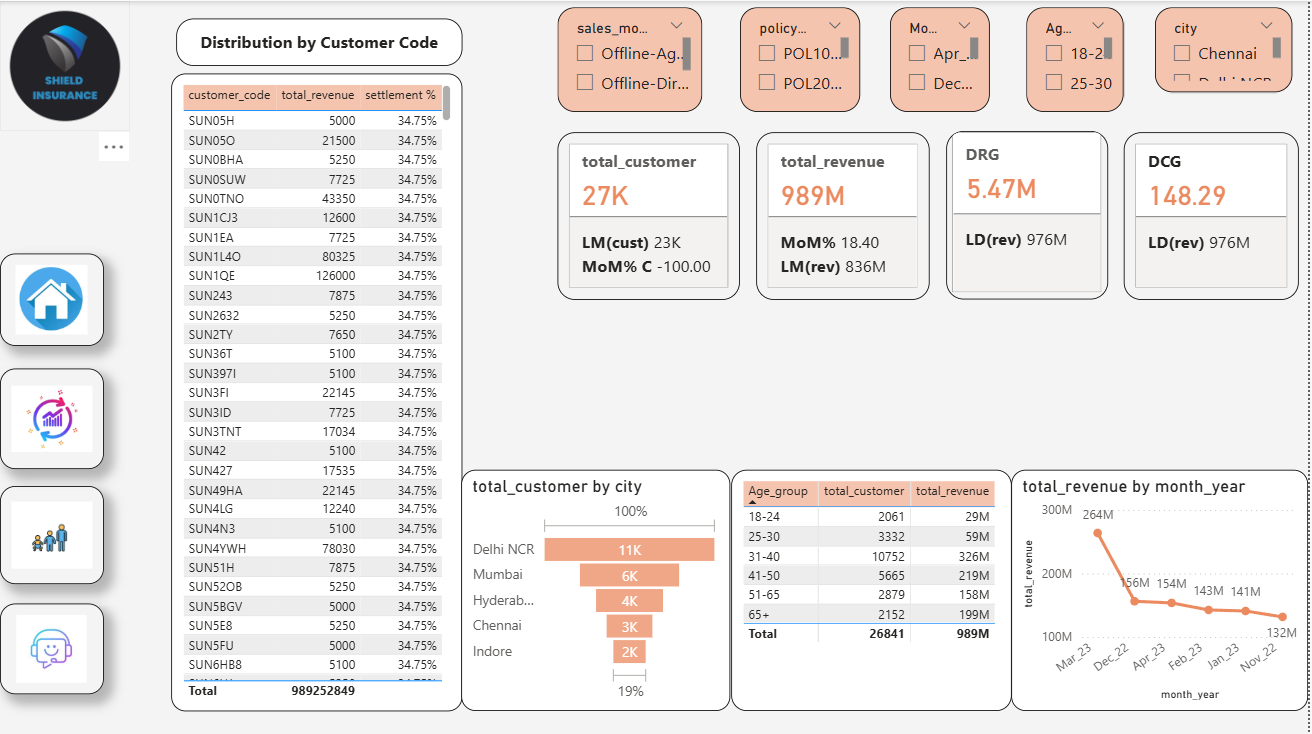

The page's visual inventory and layout, read from the dashboard file:
{"tool":"powerbi","page":{"name":"General_analysis","canvas":[1280,720],"ordinal":1},"visuals":[{"type":"cardVisual","fields":{"Data":["dim_customer.total_customer"]},"box":[545.4,128.4,178.5,163.9],"z":0},{"type":"cardVisual","fields":{"Data":["dim_customer.total_revenue"]},"box":[739.8,128.4,170,163.9],"z":1000},{"type":"cardVisual","fields":{"Data":["dim_customer.DRG"]},"box":[925.2,127.4,158.3,164.5],"z":2000},{"type":"cardVisual","fields":{"Data":["dim_customer.DCG"]},"box":[1099.3,128.4,171.2,163.9],"z":3000},{"type":"tableEx","fields":{"Values":["dim_policies.Age_group","dim_customer.total_customer","dim_customer.total_revenue"]},"box":[715,458.9,274.6,236.3],"z":4000},{"type":"tableEx","fields":{"Values":["dim_customer.customer_code","dim_customer.total_revenue","fact_settlements.settlement %"]},"box":[167.5,71.2,285,623.8],"z":5000},{"type":"slicer","fields":{"Values":["dim_customer.city"]},"box":[1130,6.2,134,83],"z":6000},{"type":"slicer","fields":{"Values":["dim_policies.Age_group"]},"box":[1003.8,6.2,95,102.5],"z":7000},{"type":"slicer","fields":{"Values":["dim_policies.mmm_yy"]},"box":[871.2,6.2,97.5,102.5],"z":8000},{"type":"slicer","fields":{"Values":["dim_policies.policy_id"]},"box":[723.8,6.2,117.5,102.5],"z":9000},{"type":"slicer","fields":{"Values":["dim_policies.sales_mode"]},"box":[545,6.2,141.2,102.5],"z":10000},{"type":"lineChart","fields":{"Y":["dim_customer.total_revenue"],"Category":["dim_date.mmm_yy"]},"box":[989.6,458.9,290.7,236.3],"z":11000},{"type":"textbox","box":[172.5,17.5,280,46.2],"z":12000},{"type":"image","box":[0,590,101.2,88.8],"z":13000},{"type":"image","box":[0,360,101.2,98.8],"z":14000},{"type":"image","box":[0,475,101.2,96.2],"z":15000},{"type":"image","box":[0,247.5,101.2,90],"z":16000},{"type":"image","box":[0,0,127.5,127.5],"z":17000},{"type":"funnel","fields":{"Category":["dim_customer.city"],"Y":["dim_customer.total_customer"]},"box":[451.5,458.9,263.5,236.3],"z":18000},{"type":"card","fields":{"Values":["dim_customer.DRGR KPI Card"]},"box":[597.5,337.7,178.1,91.5],"z":19000}]}

Visuals, with their boxes in screenshot pixels (x1, y1, x2, y2), scaled from the page's 1280x720 canvas onto the 1312x734 screenshot:
cardVisual - dim_customer.total_customer: (559,131,742,298)
cardVisual - dim_customer.total_revenue: (758,131,933,298)
cardVisual - dim_customer.DRG: (948,130,1111,298)
cardVisual - dim_customer.DCG: (1127,131,1302,298)
tableEx - dim_policies.Age_group x dim_customer.total_customer: (733,468,1014,709)
tableEx - dim_customer.customer_code x dim_customer.total_revenue: (172,73,464,709)
slicer - dim_customer.city: (1158,6,1296,91)
slicer - dim_policies.Age_group: (1029,6,1126,111)
slicer - dim_policies.mmm_yy: (893,6,993,111)
slicer - dim_policies.policy_id: (742,6,862,111)
slicer - dim_policies.sales_mode: (559,6,703,111)
lineChart - dim_customer.total_revenue x dim_date.mmm_yy: (1014,468,1311,709)
textbox: (177,18,464,65)
image: (0,601,104,692)
image: (0,367,104,468)
image: (0,484,104,582)
image: (0,252,104,344)
image: (0,0,131,130)
funnel - dim_customer.city x dim_customer.total_customer: (463,468,733,709)
card - dim_customer.DRGR KPI Card: (612,344,795,438)
